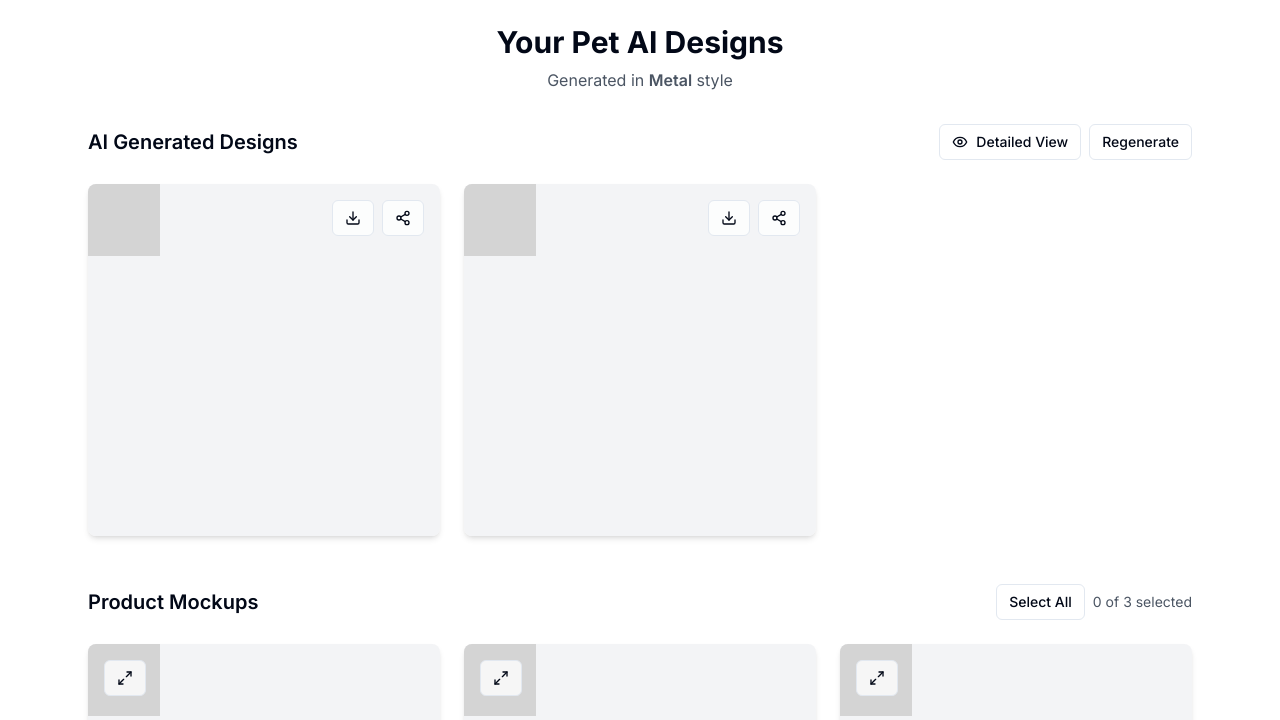
Test: ResultsGallery › handles select all functionality
Click the button "Select All" at (1041, 602), box [996,584,1085,620]
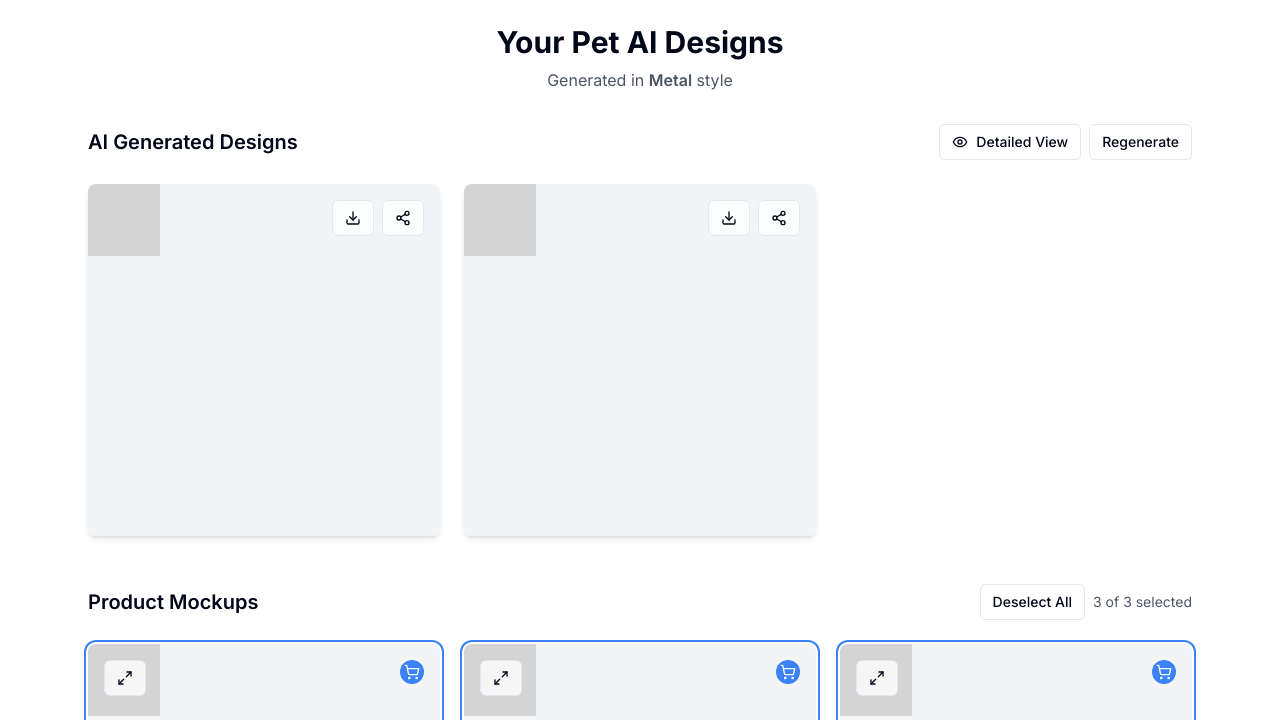
Check: the text "3 of 3 selected" is shown, box [1093,593,1192,610]
Check: the button "Deselect All" is shown, box [980,584,1085,620]
